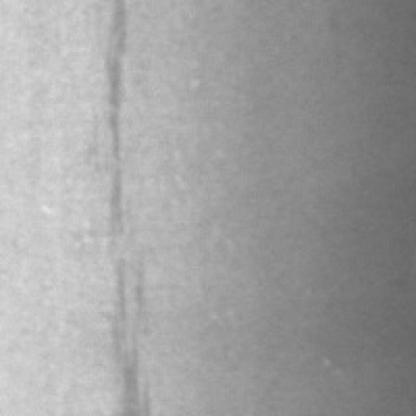inclusion: (87, 2, 148, 275), (102, 253, 154, 416)
